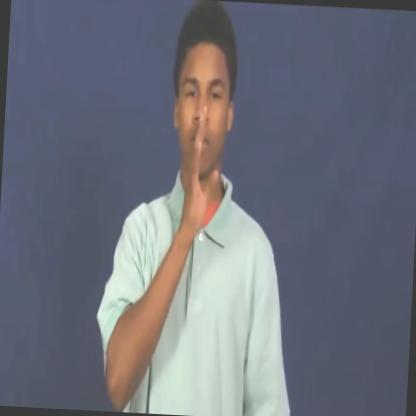Talk: (139, 1, 264, 291)
